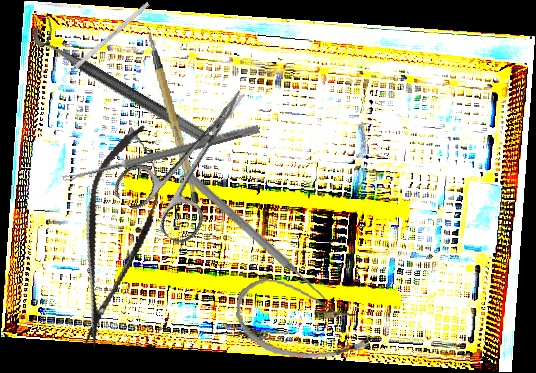Cannula: (232, 276, 375, 365)
Fixation Ring: (27, 12, 222, 147)
Hook Surgical: (56, 1, 151, 84)
Iris Scissors: (108, 64, 283, 251)
Micro Scissor: (55, 116, 176, 356)
Pusher: (182, 168, 329, 304)
Scalpel Handle: (147, 26, 202, 207)
Surgical Spoon: (62, 123, 260, 185)
